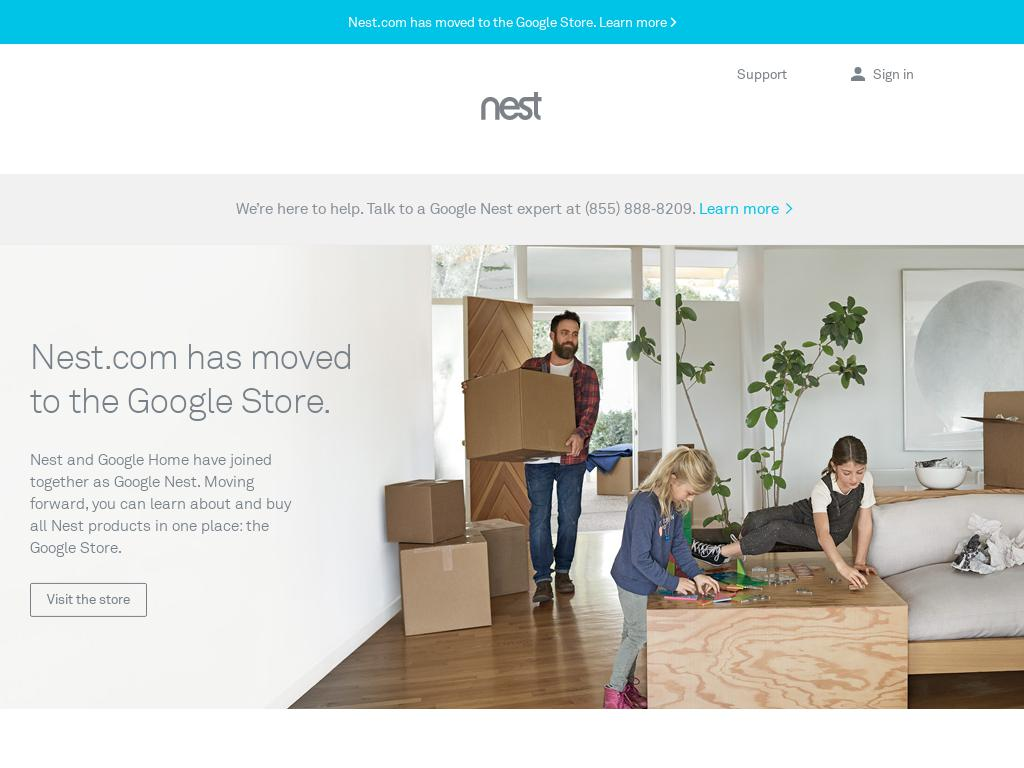button: (30, 582, 147, 617)
heading: (30, 336, 355, 425)
image: (0, 245, 1024, 709)
link: (785, 200, 794, 218)
text: (30, 448, 305, 559), (235, 201, 585, 217), (584, 201, 692, 217), (698, 201, 783, 217), (691, 201, 699, 217)
